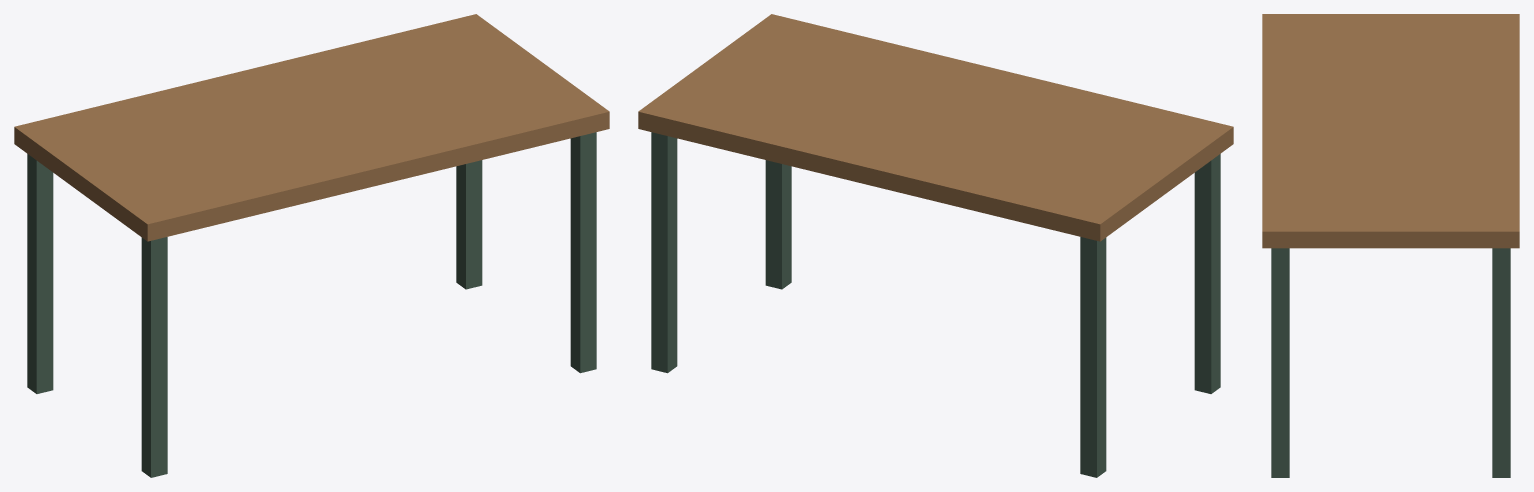
The picture shows the model from 3 angles, left to right: view 1: azimuth 30°, elevation 25°; view 2: azimuth 150°, elevation 25°; view 3: azimuth 270°, elevation 25°; orthographic projection. The views are drawn at different scales.
Parts seen in each view (by area): view 1: top, leg-0-1, leg-1-1, leg-0-0, leg-1-0; view 2: top, leg-0-0, leg-1-0, leg-0-1, leg-1-1; view 3: top, leg-1-0, leg-1-1.
Boxes of the visible parts, x1,y1,x2,y2 form: top: [14, 14, 609, 241]; leg-0-1: [141, 237, 167, 477]; leg-1-1: [570, 132, 596, 373]; leg-0-0: [27, 154, 53, 393]; leg-1-0: [456, 160, 482, 289]; top: [638, 14, 1233, 241]; leg-0-0: [1080, 237, 1106, 477]; leg-1-0: [651, 132, 677, 373]; leg-0-1: [1194, 154, 1220, 393]; leg-1-1: [765, 160, 791, 289]; top: [1262, 14, 1519, 248]; leg-1-0: [1492, 248, 1510, 477]; leg-1-1: [1271, 248, 1289, 477].
Bounding box in the file's own units: 1.4 × 0.75 × 0.7.
